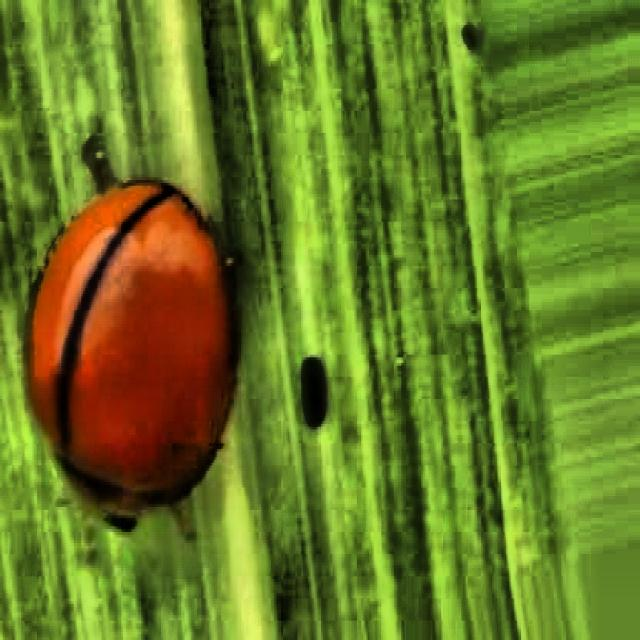Ladybug: (5, 79, 286, 628)
